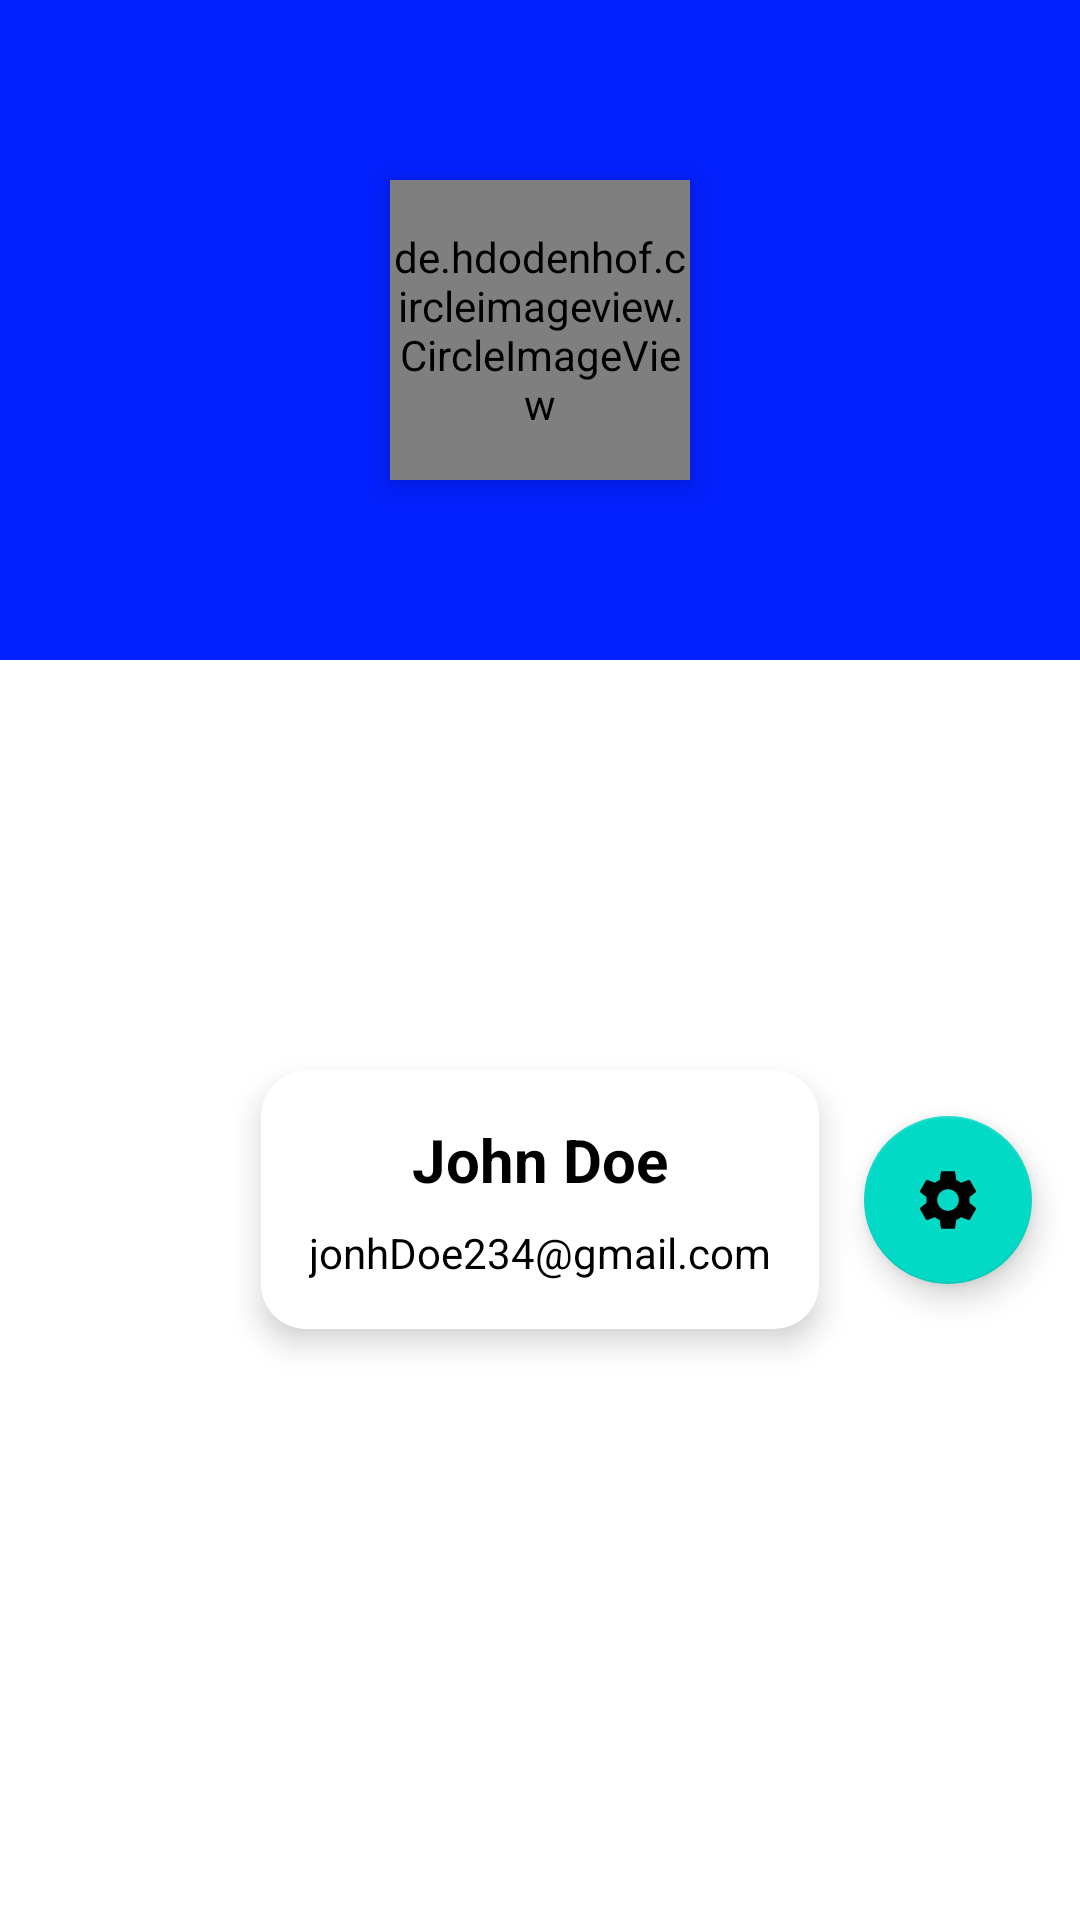

Icon click points for this 1080*1920 phone screenshot, format (x=x, y=y):
settings: (x=948, y=1200)
